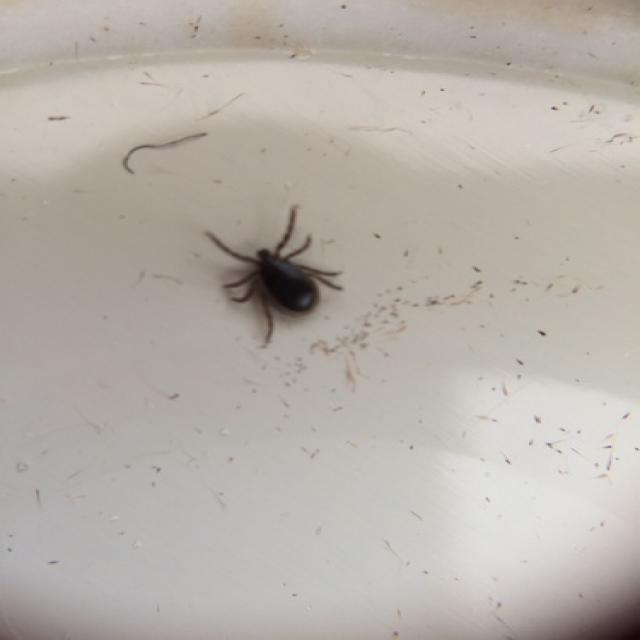Ixodes Ricinus-M: (203, 205, 345, 348)
